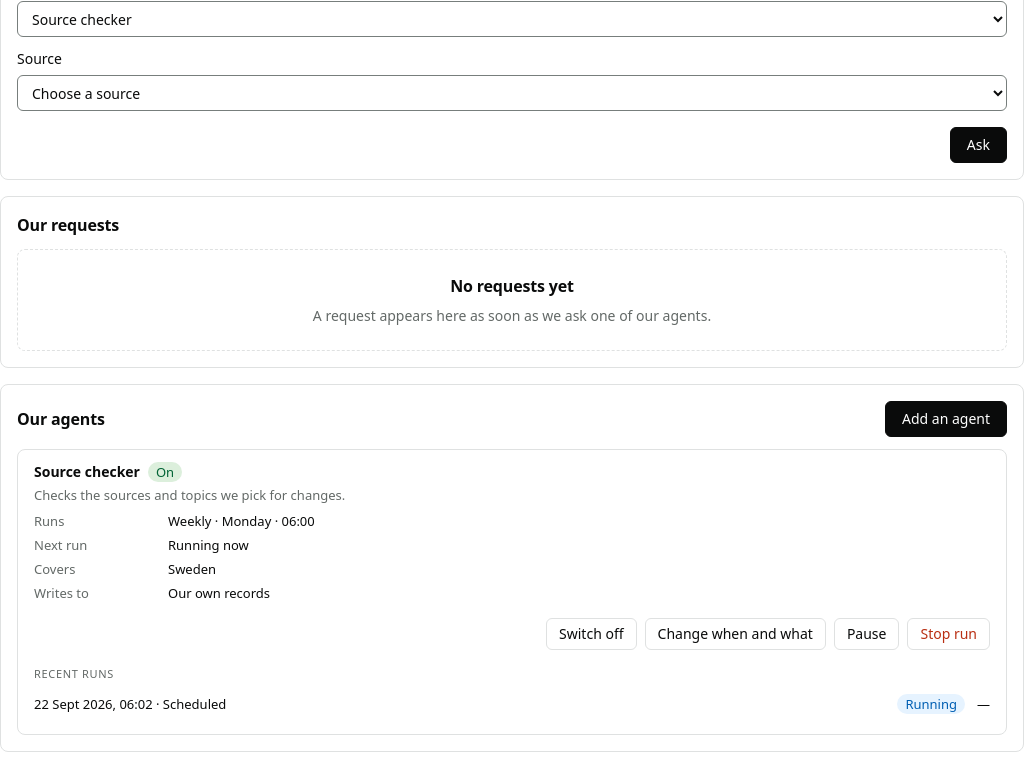
Test: admin agents screen › stops a running run after one confirmation
(page scrolled)
Expected: the element that starts with "Source checker" is shown, [17,449,1007,735]
Expected: the text "Running now" is shown, [168,536,249,554]
What coordinates should you click on to do the following:
click the button "Stop run"
I would click on:
 (949, 634)
Its box is [908,618,990,650].
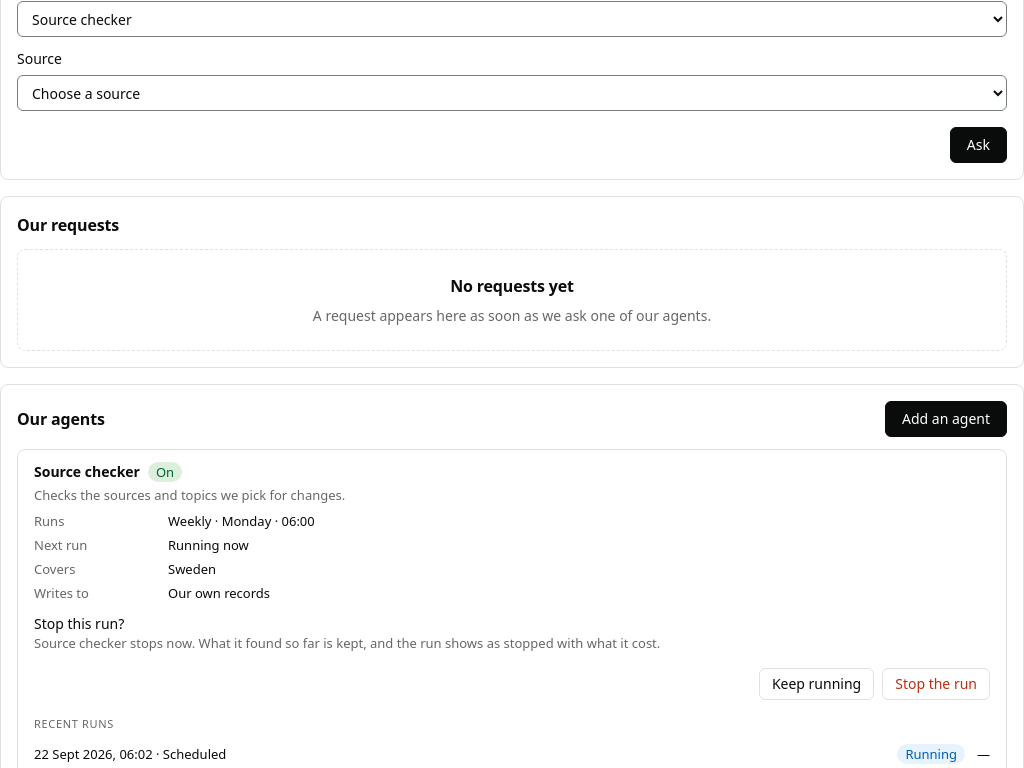
Expected: the text "Stop this run?" is shown, [34,614,124,633]
What coordinates should you click on to do the following:
click the button "Stop the run"
I would click on:
 (936, 684)
Its box is [882,668,990,700].
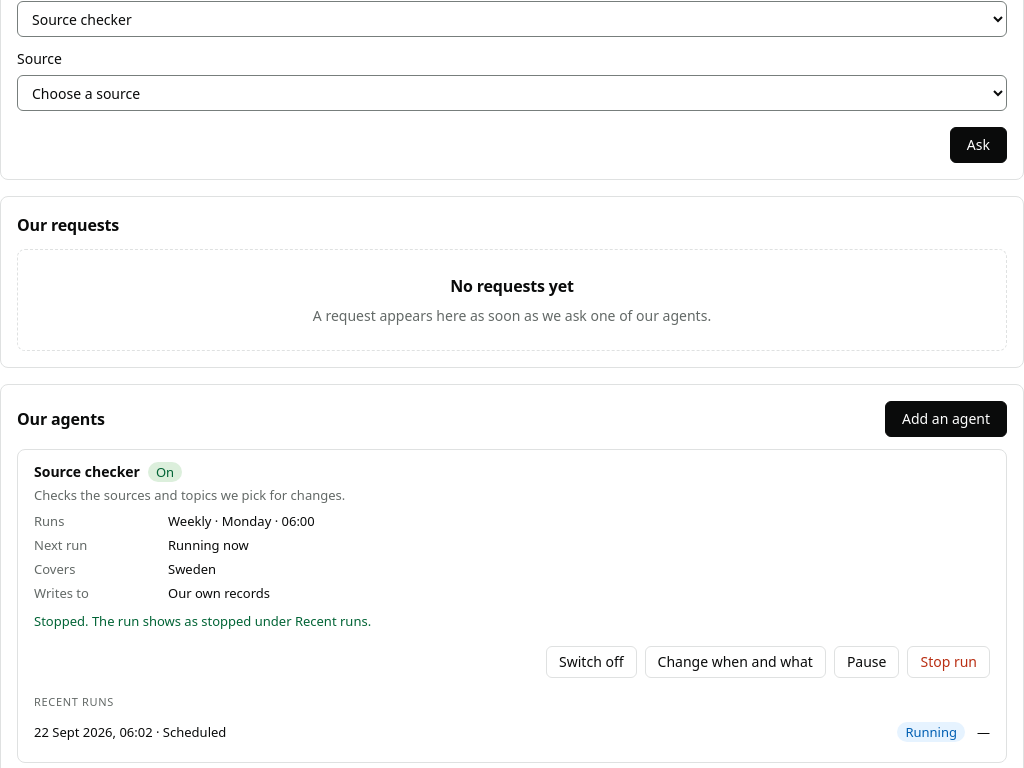
Expected: the text "Stopped. The run shows as stopped under Recent runs." is shown, [34,612,371,630]
